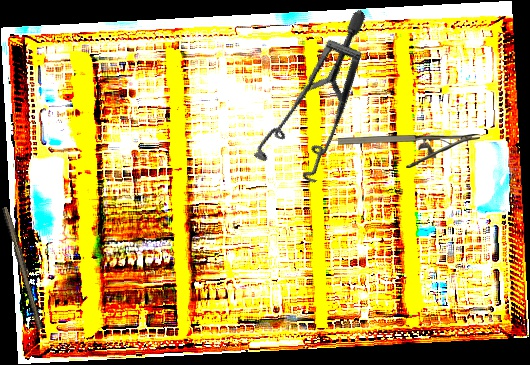Needle Holder: (338, 134, 480, 168)
Scalpel Handle: (0, 205, 47, 331)
Speculum: (217, 8, 426, 203)
